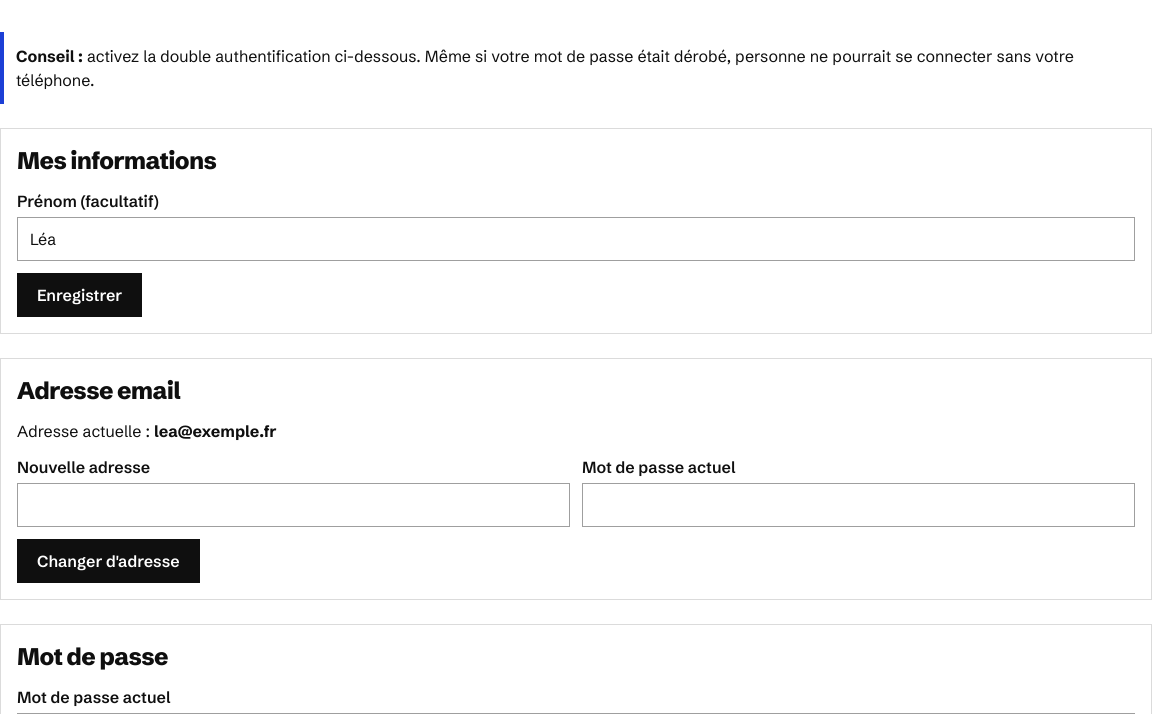
AccountSettings : email › adresse invalide : erreur sans appel
Type "pas-un-email" into the field labelled "Nouvelle adresse".
click(294, 505); type("pas-un-email")  # box [17, 483, 570, 527]
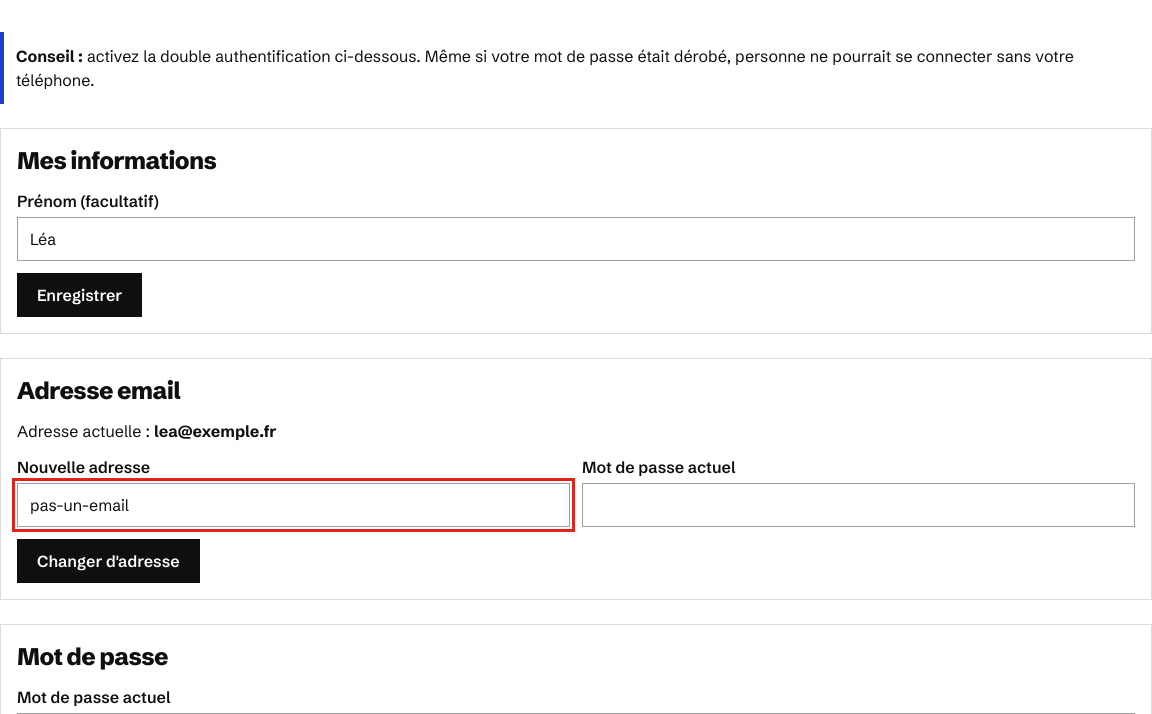
Click the button "Changer d'adresse".
click(108, 561)  # box [17, 539, 200, 583]
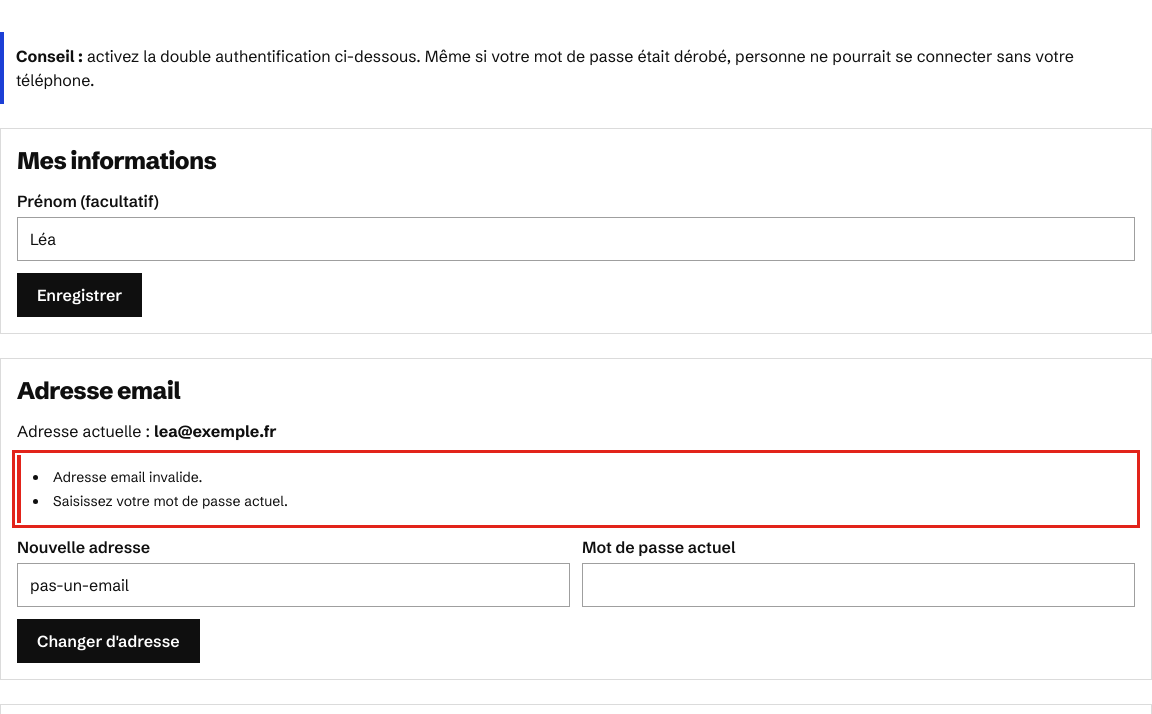
Expected: the message "Adresse email invalide. Saisissez votre mot de passe actuel." is shown, [17, 455, 1135, 523]
